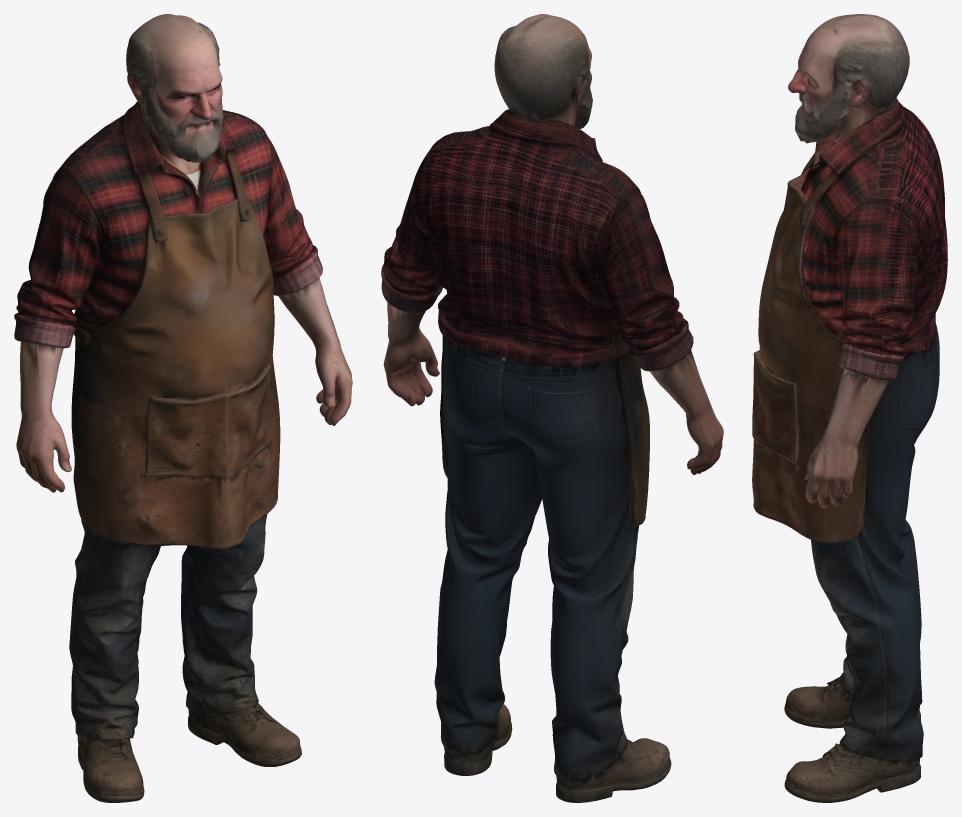
The model's file is Hank.glb.
The picture shows the model from 3 angles, left to right: view 1: azimuth 30°, elevation 25°; view 2: azimuth 150°, elevation 25°; view 3: azimuth 270°, elevation 25°; orthographic projection.
Parts seen in each view (by area): view 1: node_0; view 2: node_0; view 3: node_0.
Boxes of the visible parts, box(x1,y1,x2,y2) form: node_0: box(14, 14, 352, 802); node_0: box(381, 14, 723, 802); node_0: box(752, 14, 947, 802).
Size of the model in its own units: 0.8161 by 1.78 by 0.4264.
Materials: 1 (1 with a texture image).
